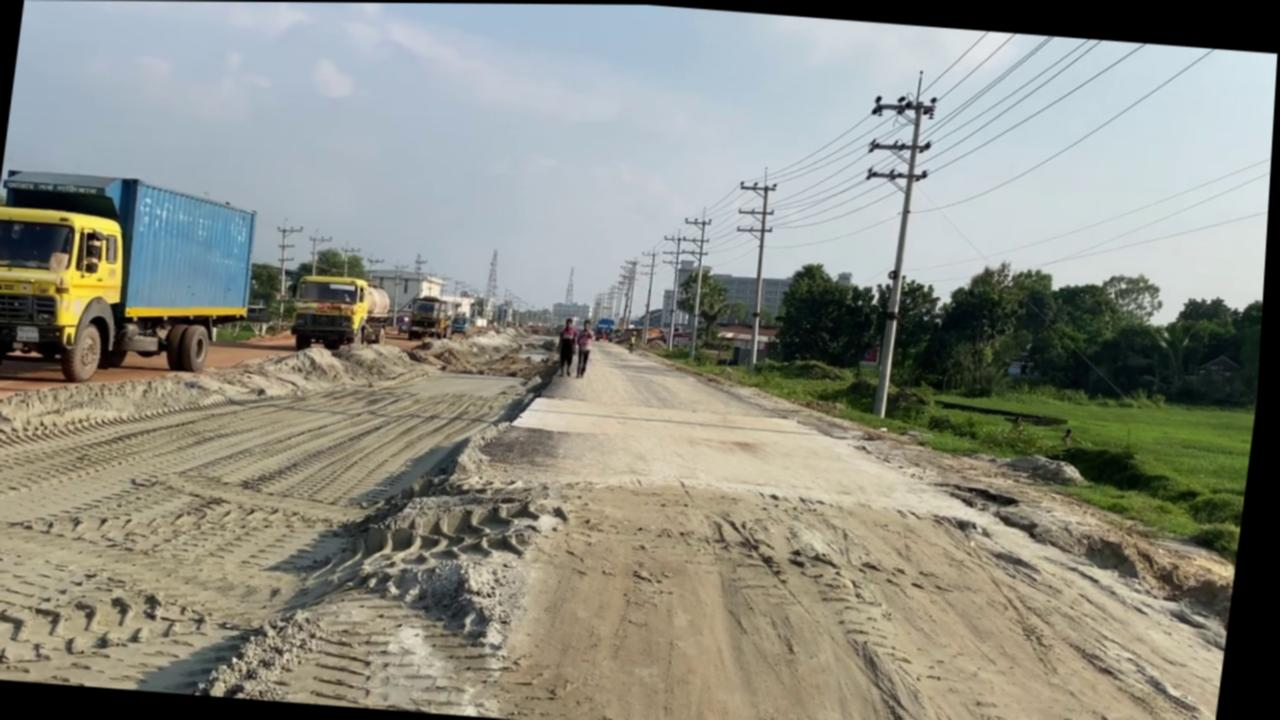Light-pole: (835, 65, 943, 417)
Muddy road: (0, 292, 562, 715)
Obstacle: (0, 164, 266, 394)
Pole: (875, 67, 931, 416)
Rickshaw: (518, 306, 1260, 720)
Tree: (290, 270, 396, 356), (402, 292, 457, 340), (364, 283, 396, 343), (1008, 340, 1044, 379), (451, 294, 478, 334), (597, 316, 619, 340), (649, 326, 671, 345)
